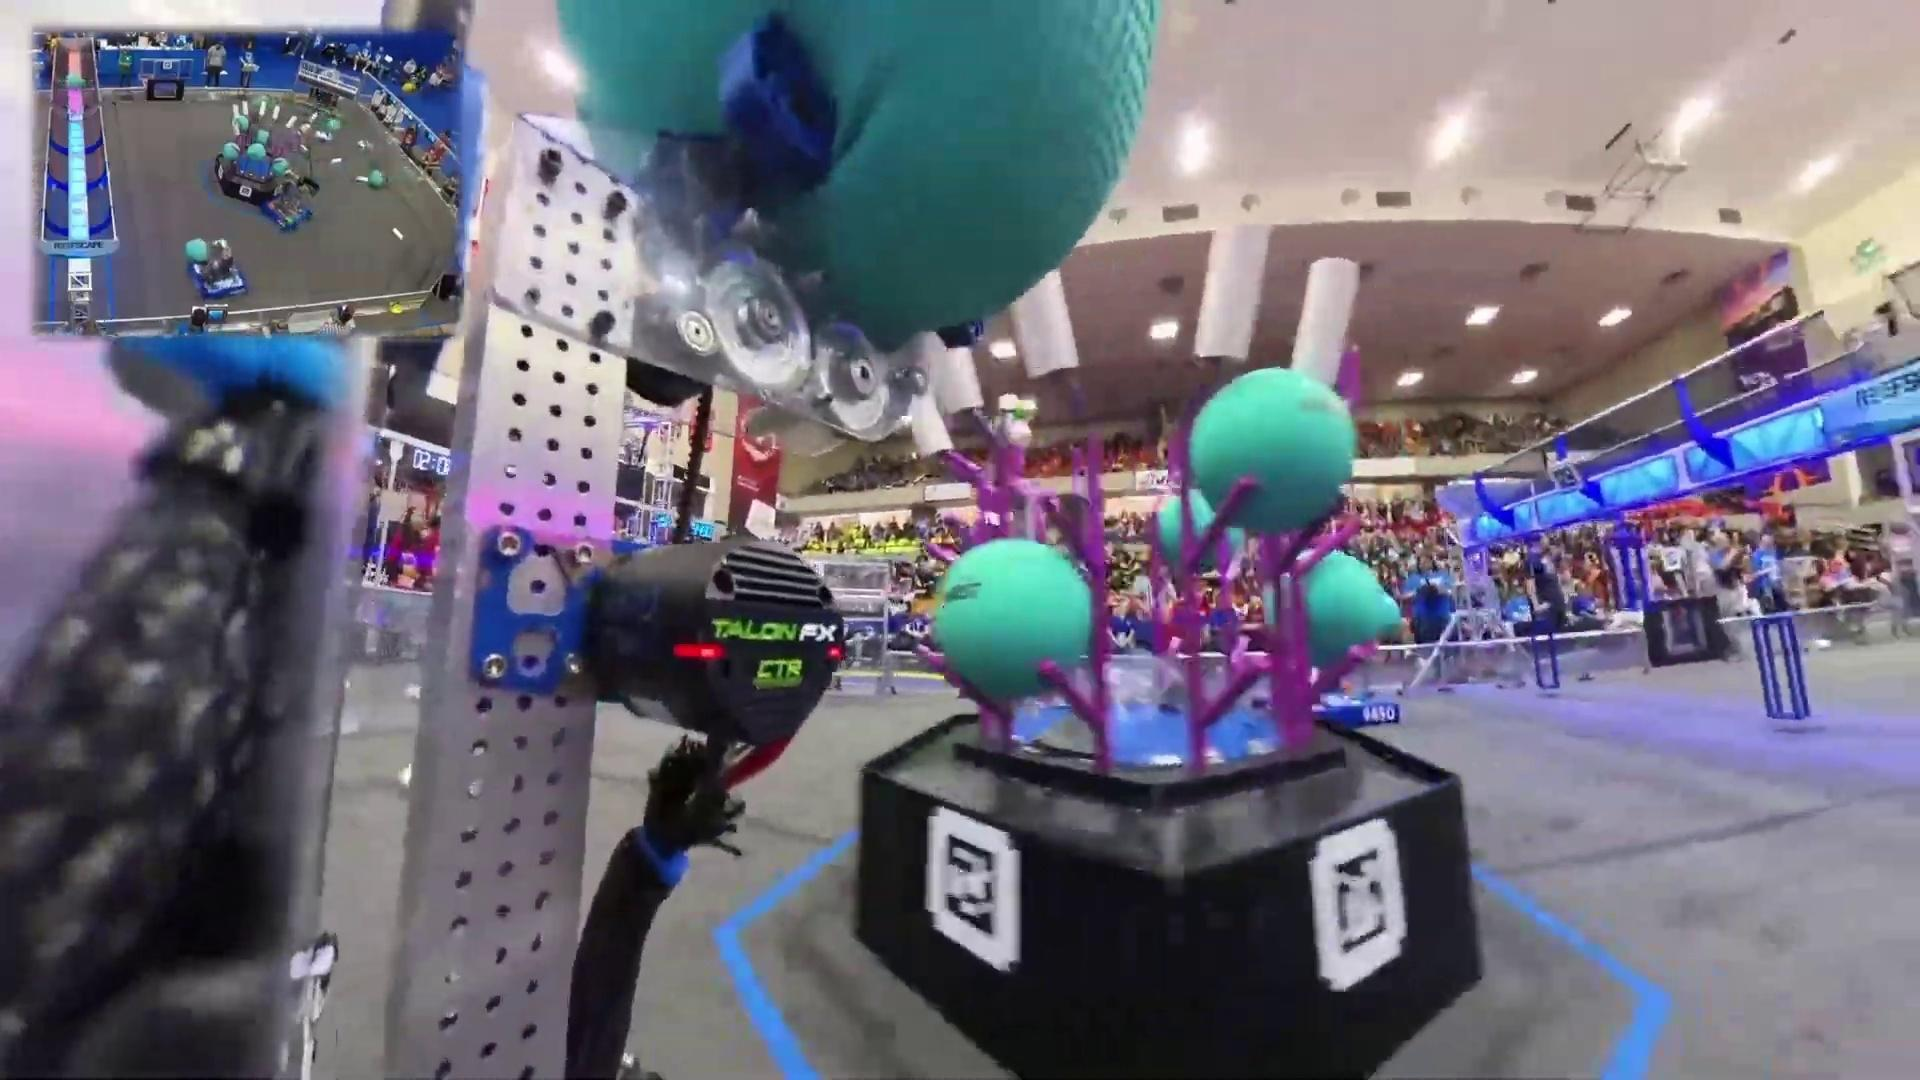robot: (1312, 665, 1404, 728), (187, 236, 252, 299), (258, 171, 314, 235)
